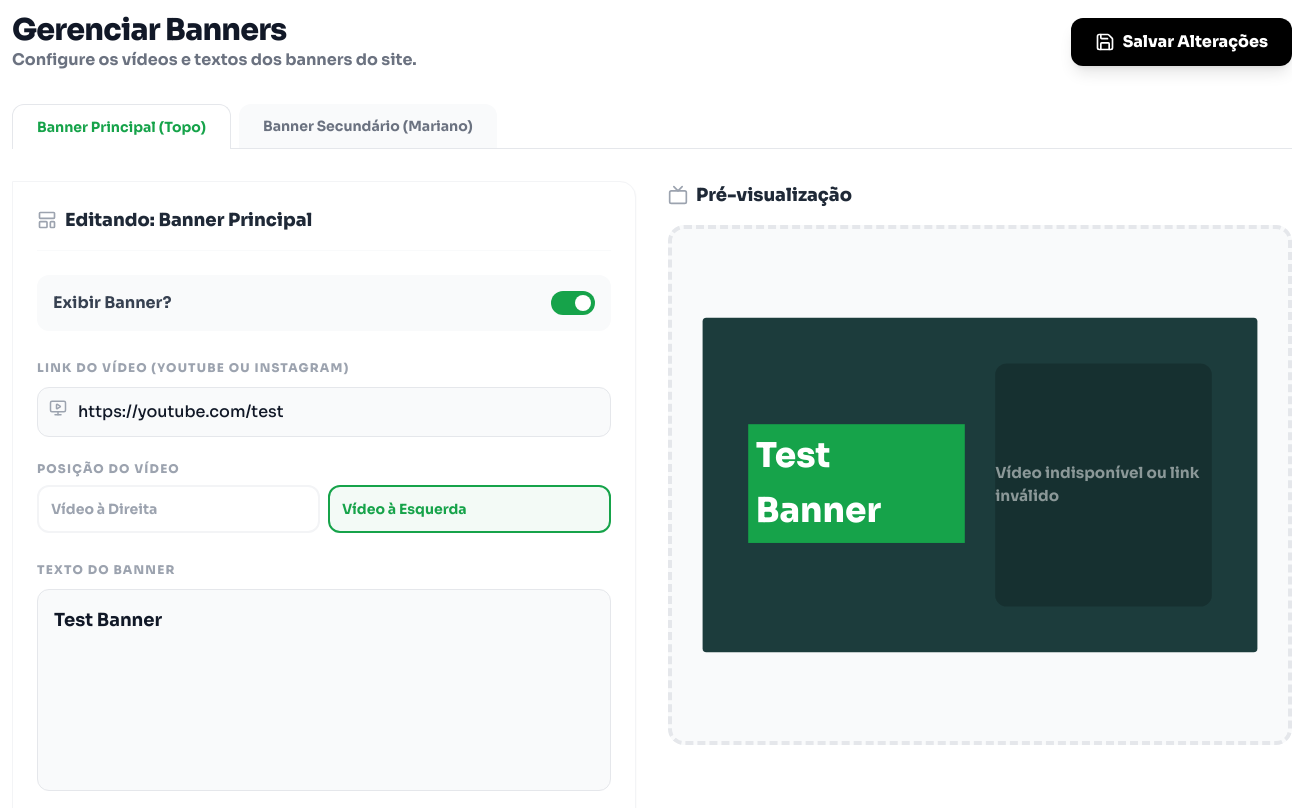
Test: AdminBannerPage ARIA attributes › renders alignment radios with correct checked state
The width and height of the screenshot is (1304, 808).
Expected: the heading "Gerenciar Banners" is shown, [12,11,286,49]
Expected: the radio button labelled "Vídeo à Esquerda" is checked, [328,485,611,533]
Click the radio button labelled "Vídeo à Direita" at x=104, y=509, box [37,485,320,533]
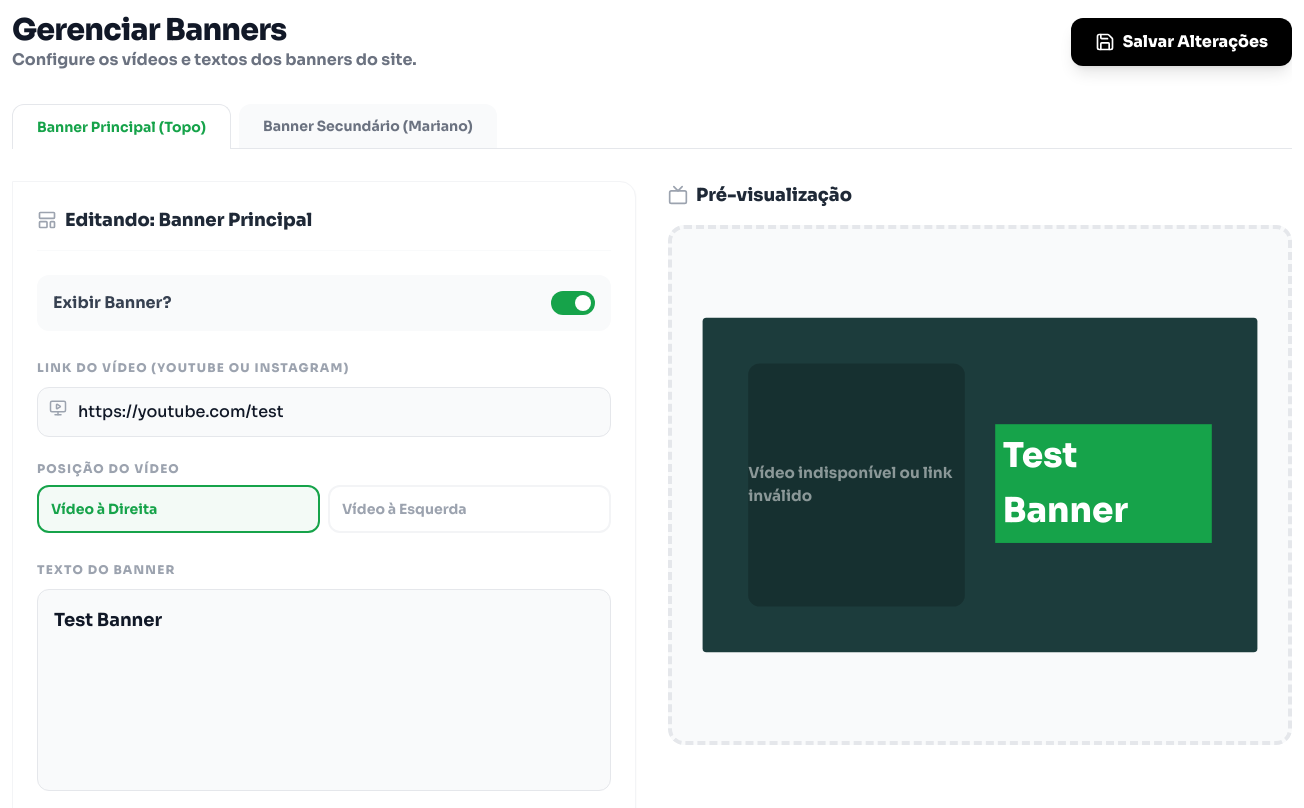
Now the radio button labelled "Vídeo à Direita" is checked, box [37,485,320,533]
Now the radio button labelled "Vídeo à Esquerda" is not checked, box [328,485,611,533]
